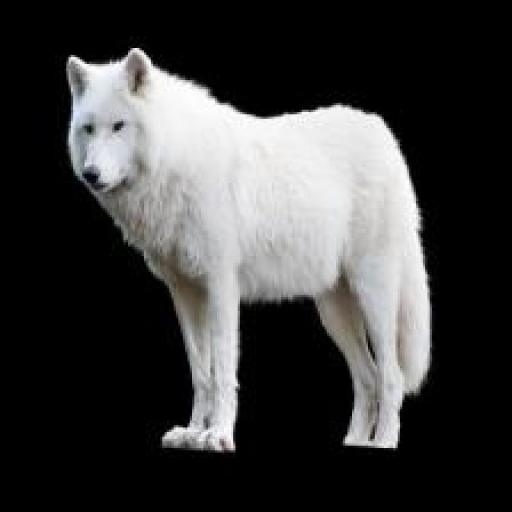wolf: (66, 48, 436, 454)
